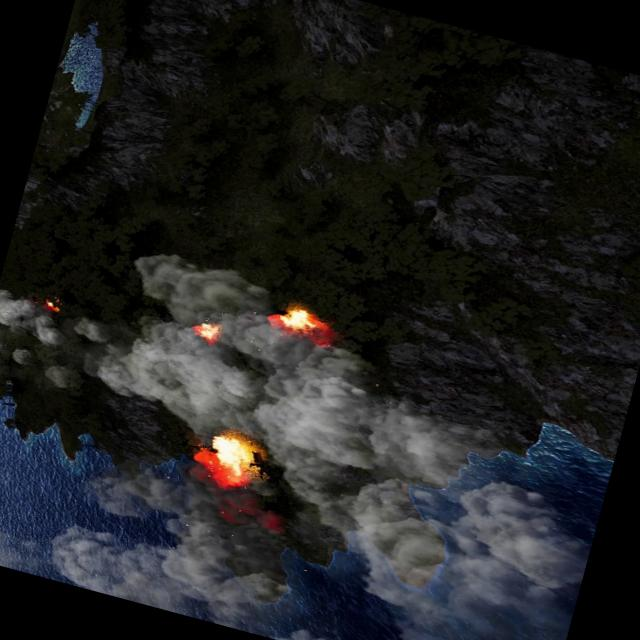fire: (195, 430, 262, 492), (264, 299, 339, 347), (190, 318, 221, 342), (43, 294, 65, 311)
smoke: (0, 208, 640, 640), (43, 431, 311, 638), (271, 621, 362, 640)
